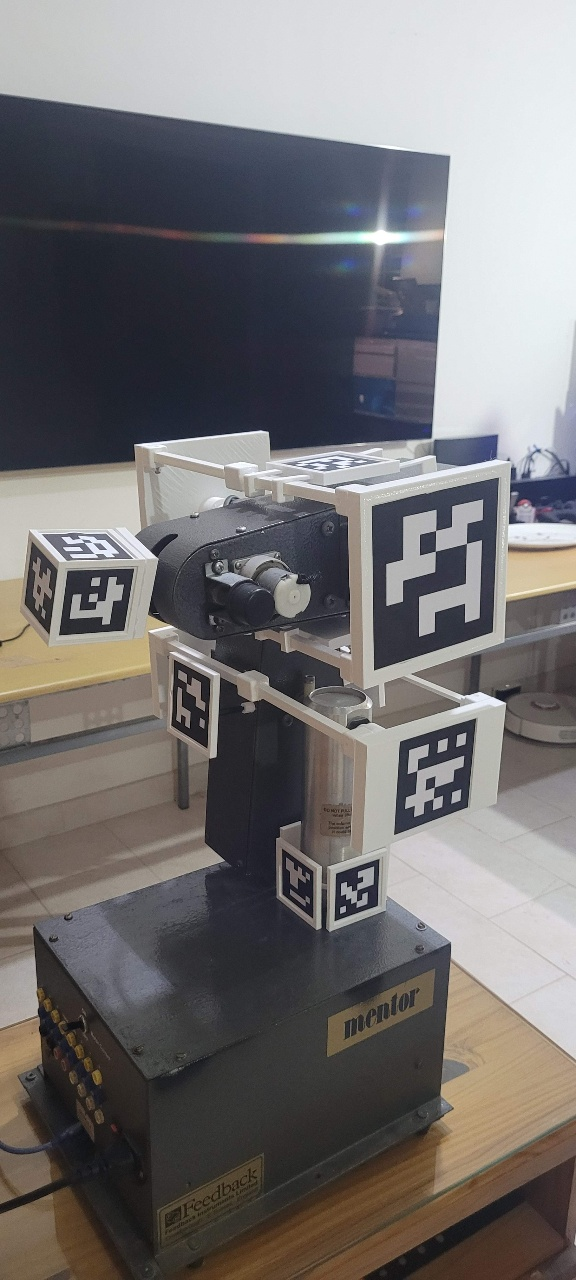Robot: (94, 151, 565, 989)
